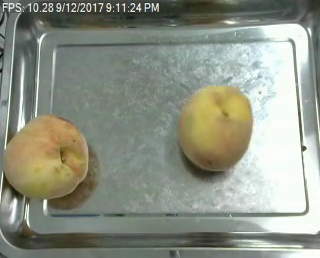Peach: (3, 113, 89, 200), (177, 85, 254, 173)
